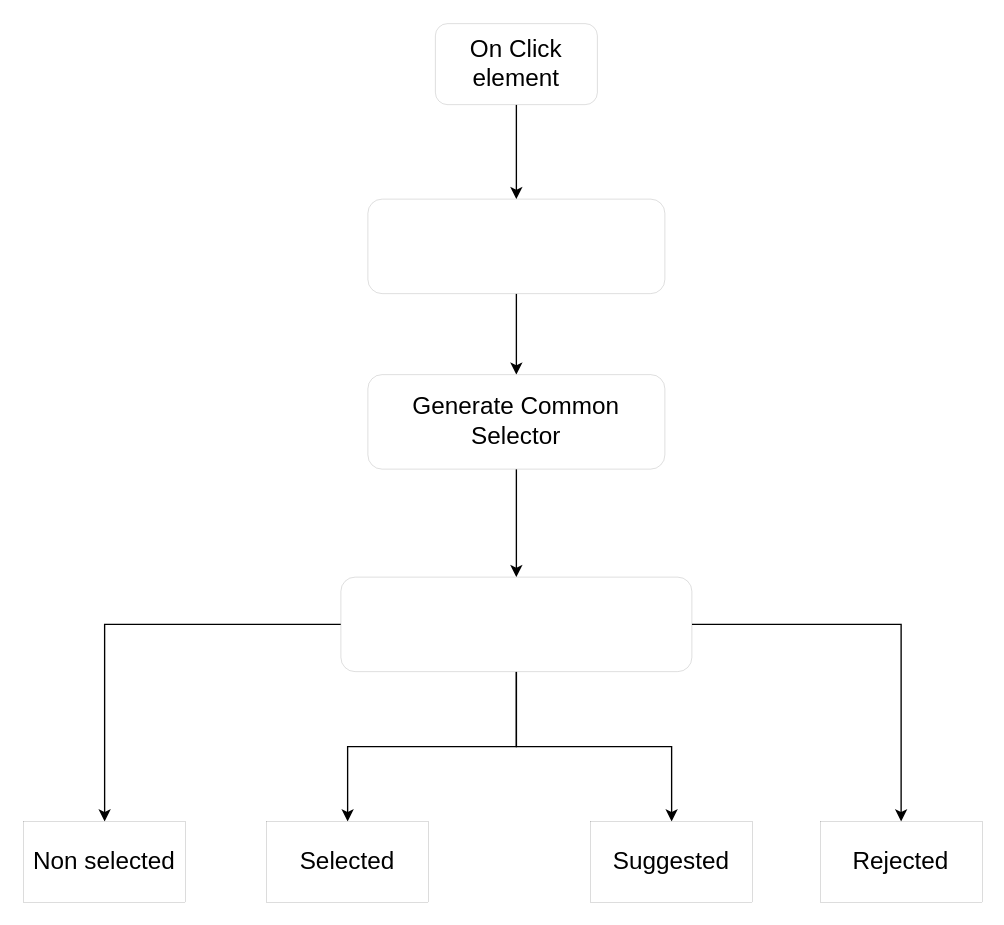
This 1004x925 diagram has some shape labels left out. Here are the shapes that lost their labels. From the top down, the box of each, then its label:
(367, 198, 664, 293): Generate Footprint
(340, 576, 691, 671): Get the action status
